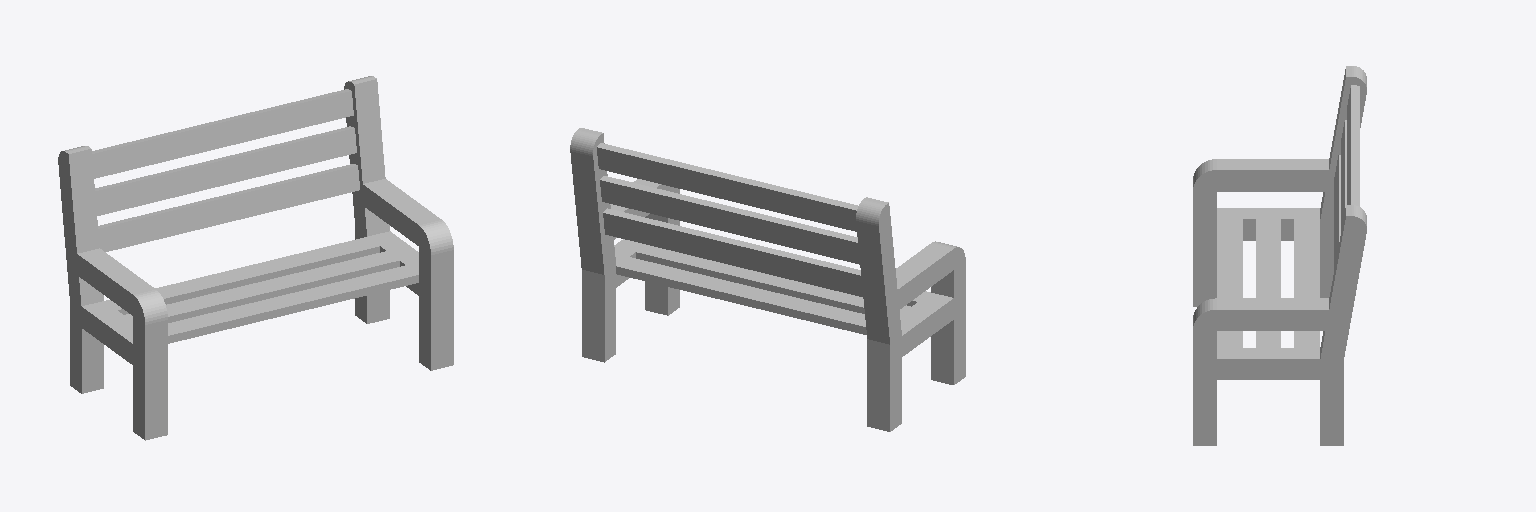
3 renders of one model, left to right at view 1: azimuth 30°, elevation 25°; view 2: azimuth 150°, elevation 25°; view 3: azimuth 270°, elevation 25°, orthographic.
Parts seen in each view (by area): view 1: bench; view 2: bench; view 3: bench.
Part boxes in pixels (bbox=[...]): bench: bbox=[58, 76, 453, 440]; bench: bbox=[570, 128, 965, 431]; bench: bbox=[1193, 66, 1366, 445].
Bounding box in the file's own units: 1 × 0.7134 × 0.489.